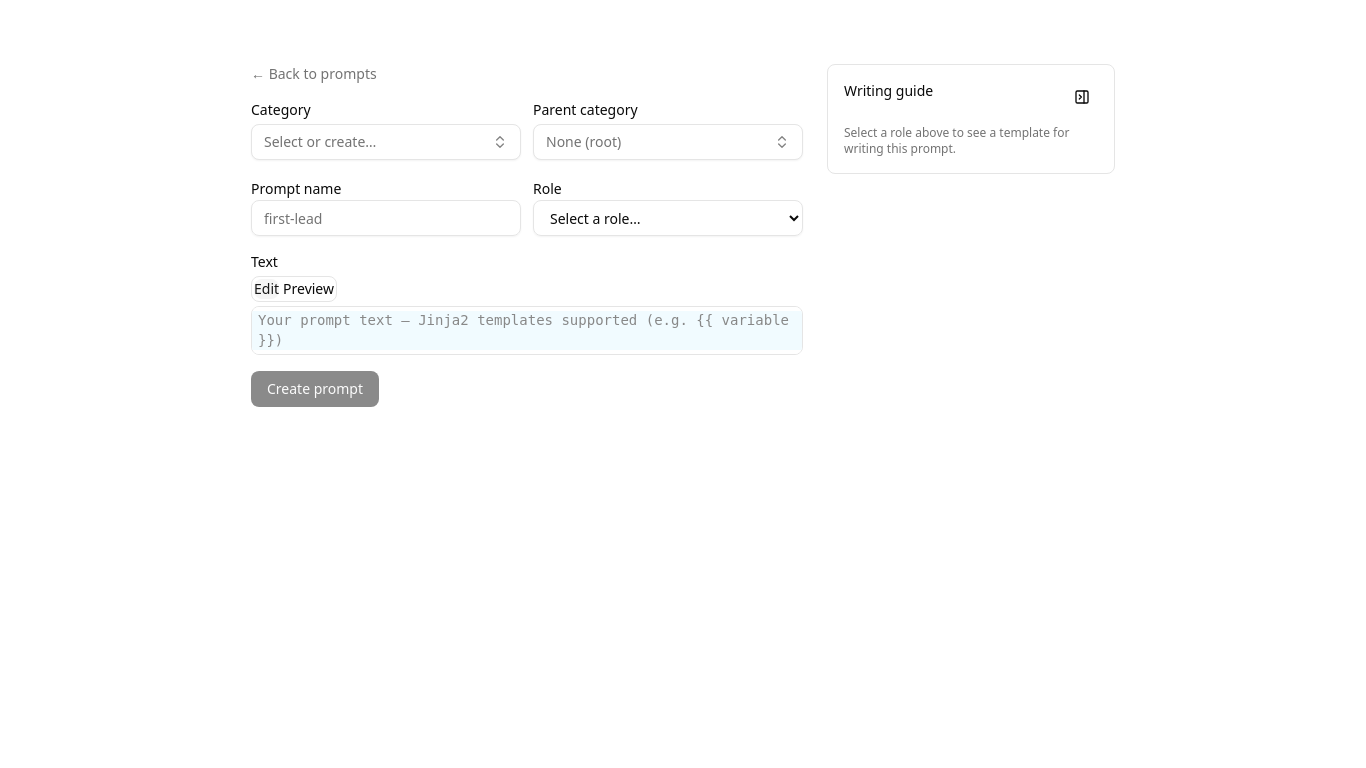
Test: PromptForm (create mode) › shows inline leaf-slug error on 422 leaf_slug format failure
Click the dropdown named "Category".
click(320, 142)  # box [251, 124, 521, 160]
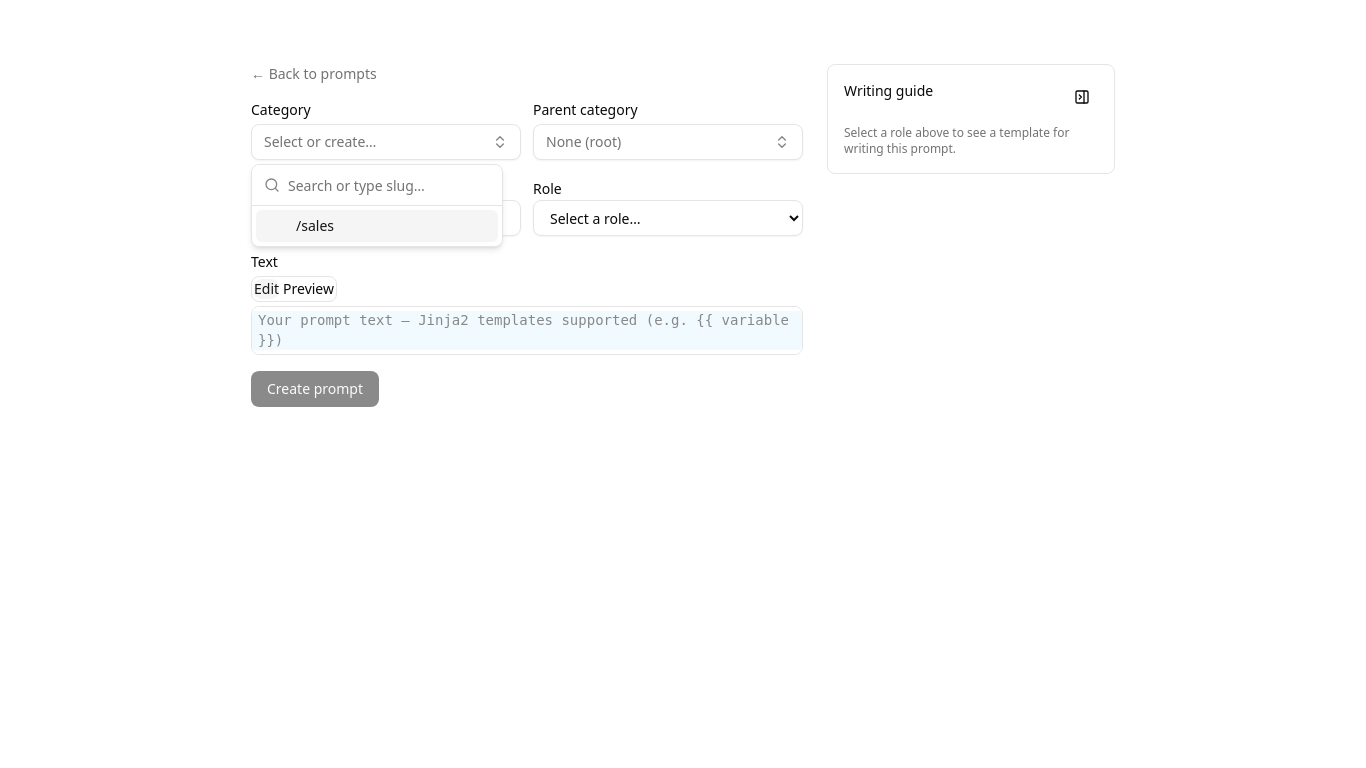
Click the option "/sales".
click(377, 226)  # box [256, 210, 498, 242]
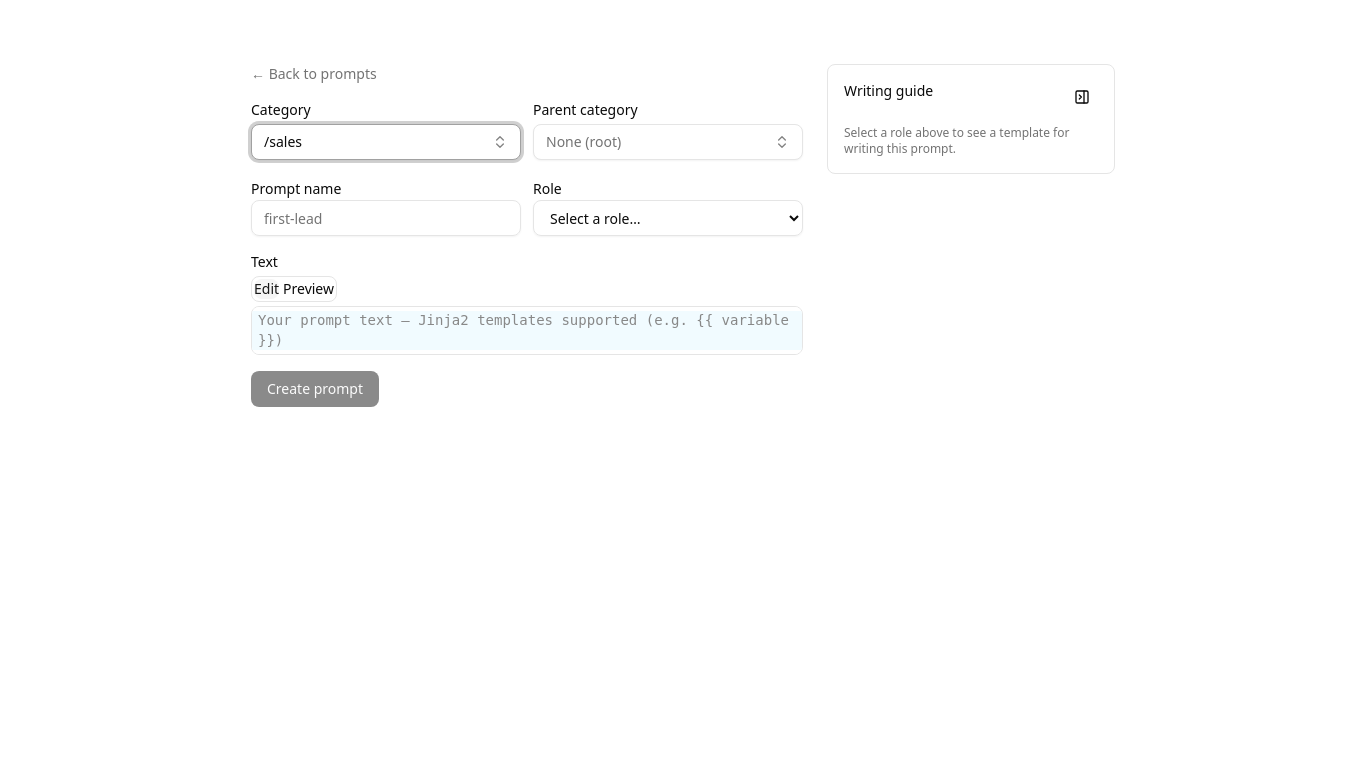
Type "Bad/Slug" into the field labelled "Prompt name".
click(386, 218); type("Bad/Slug")  # box [251, 200, 521, 236]
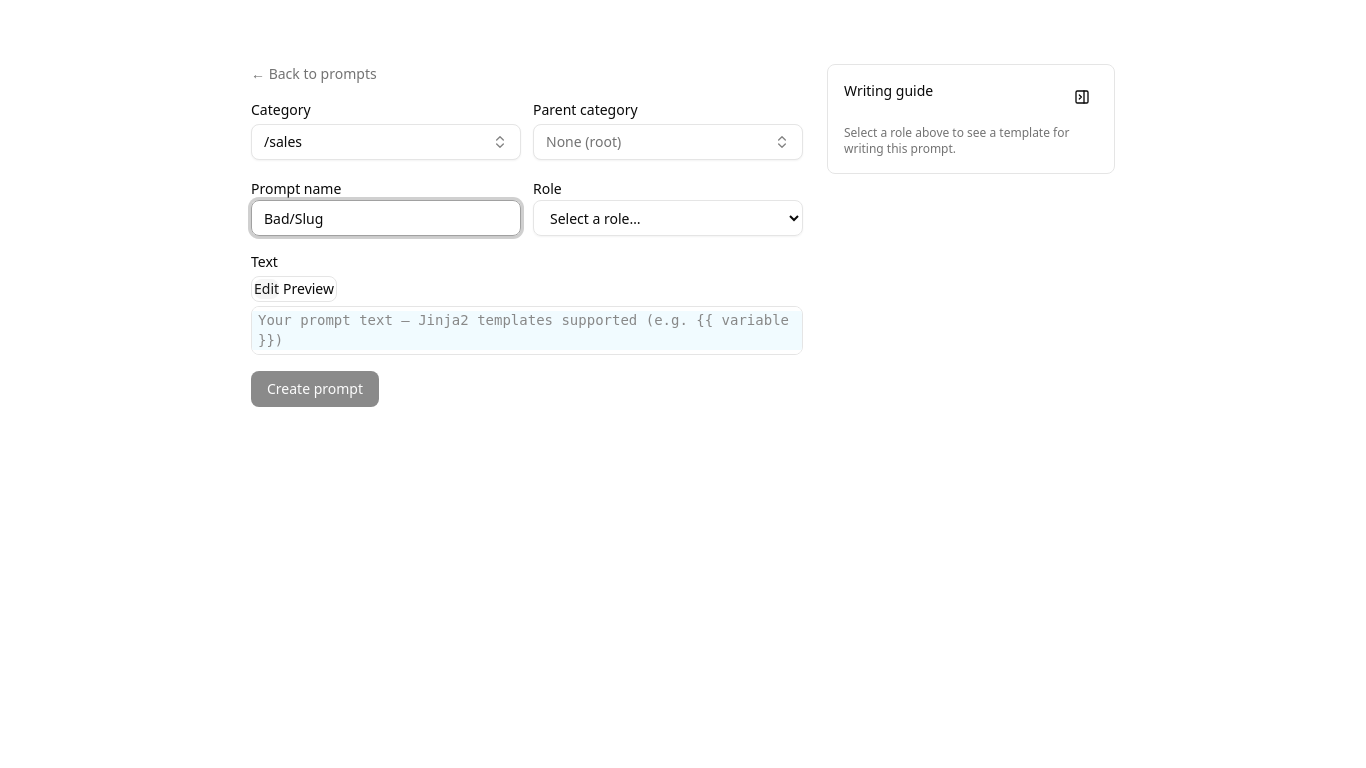
Select "User" in the dropdown labelled "Role" at (668, 218), box [533, 200, 803, 236]
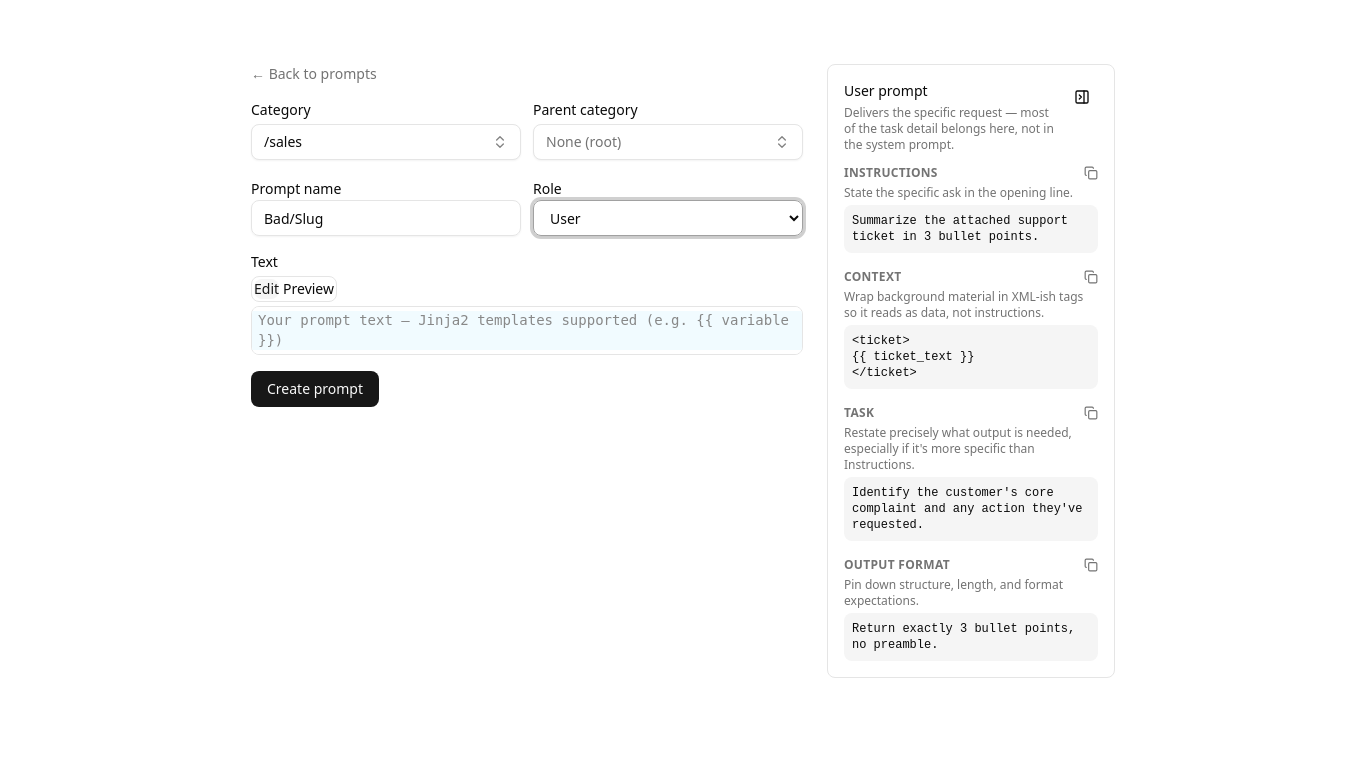
Type "hello world" into the field labelled "text".
click(527, 331); type("hello world")  # box [252, 307, 802, 354]
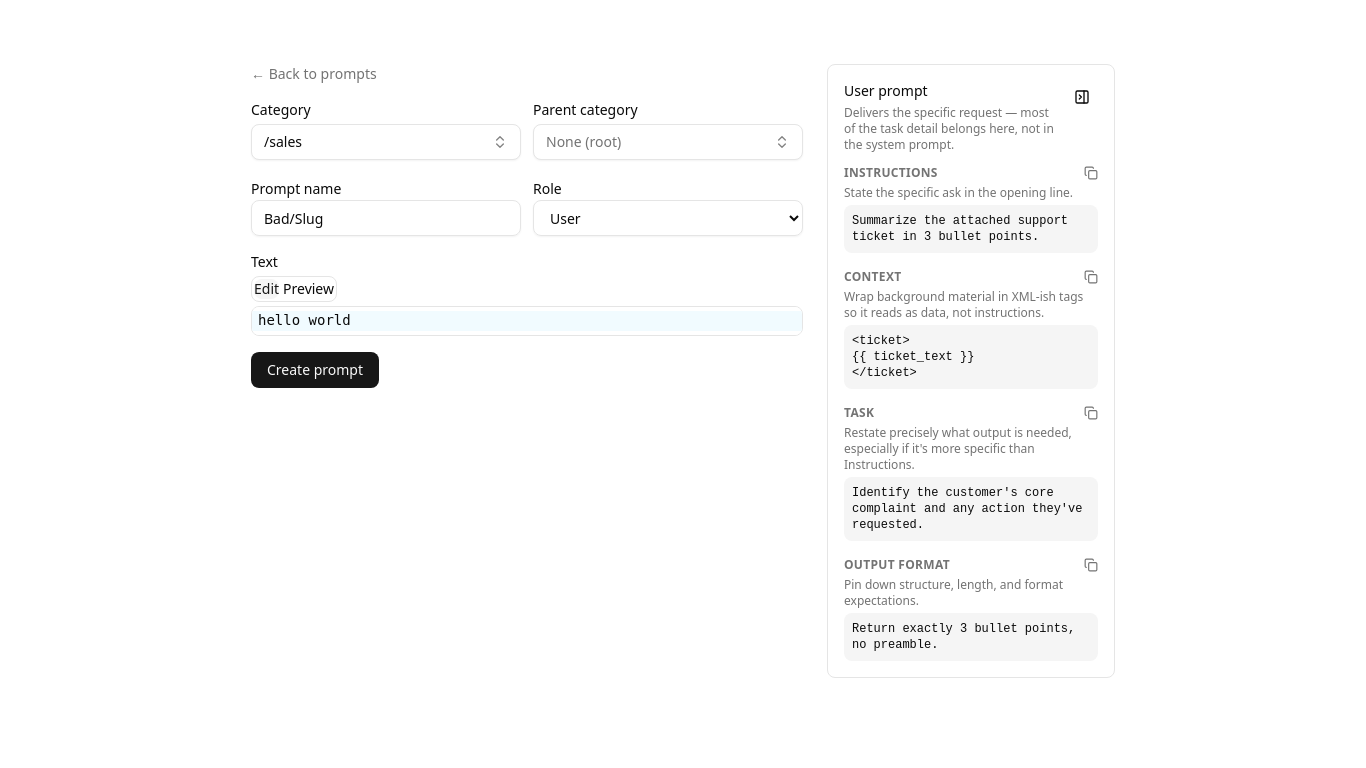
Click the button "Create prompt".
click(315, 370)  # box [251, 352, 379, 388]
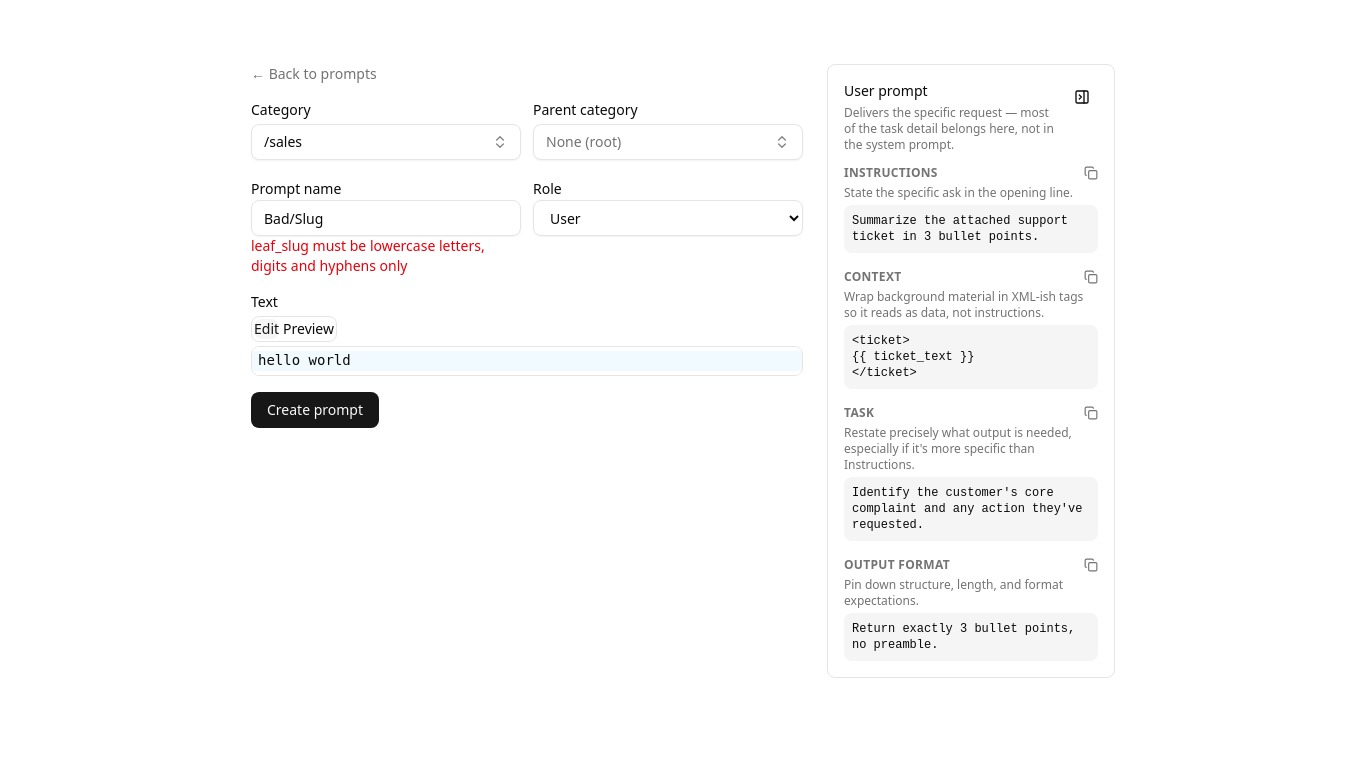
Expected: the message shows "leaf_slug must be lowercase letters", [251, 236, 485, 275]
